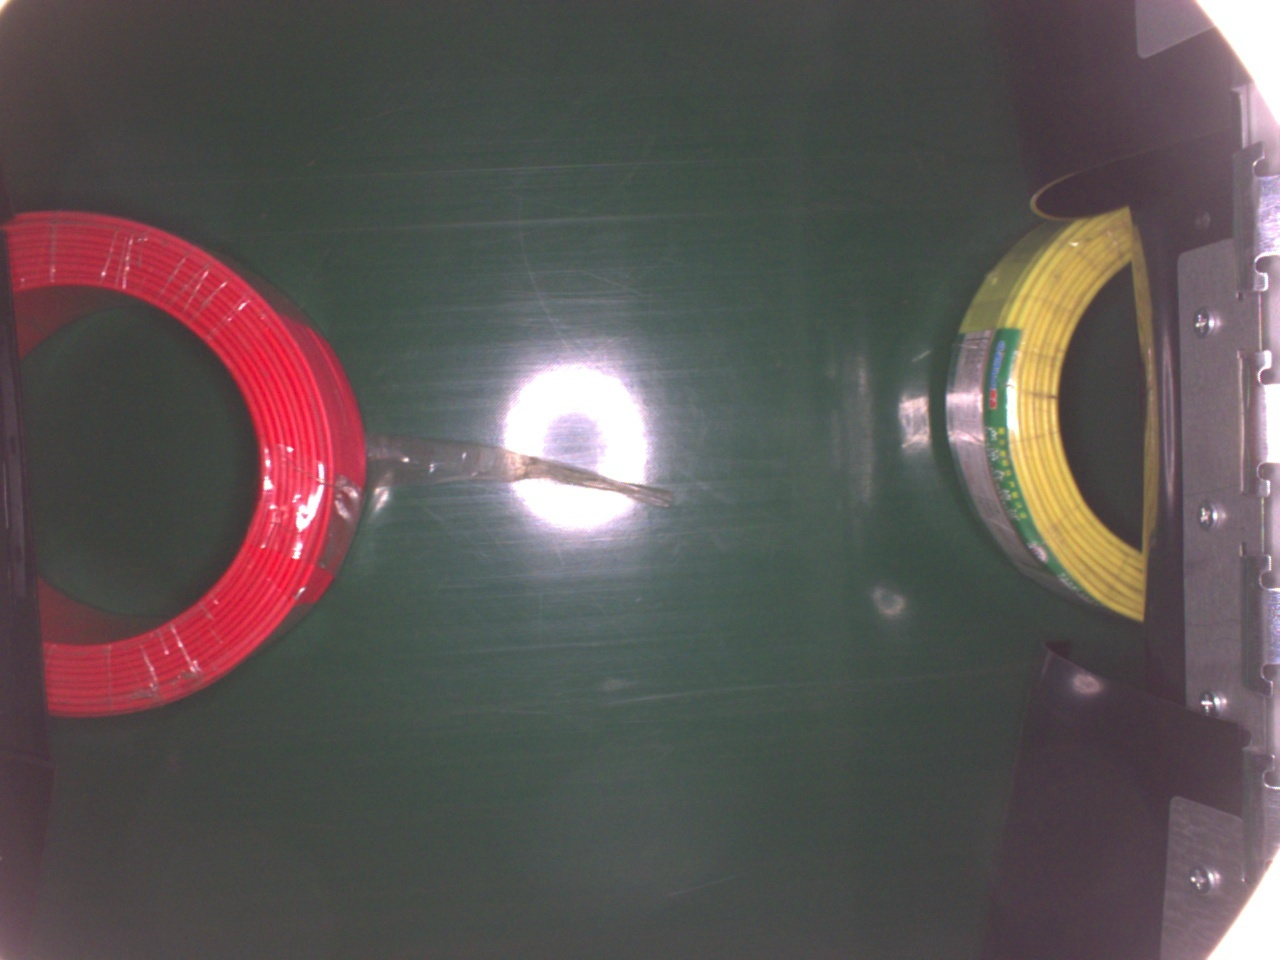red: (0, 204, 371, 717)
yellow: (946, 206, 1147, 626)
